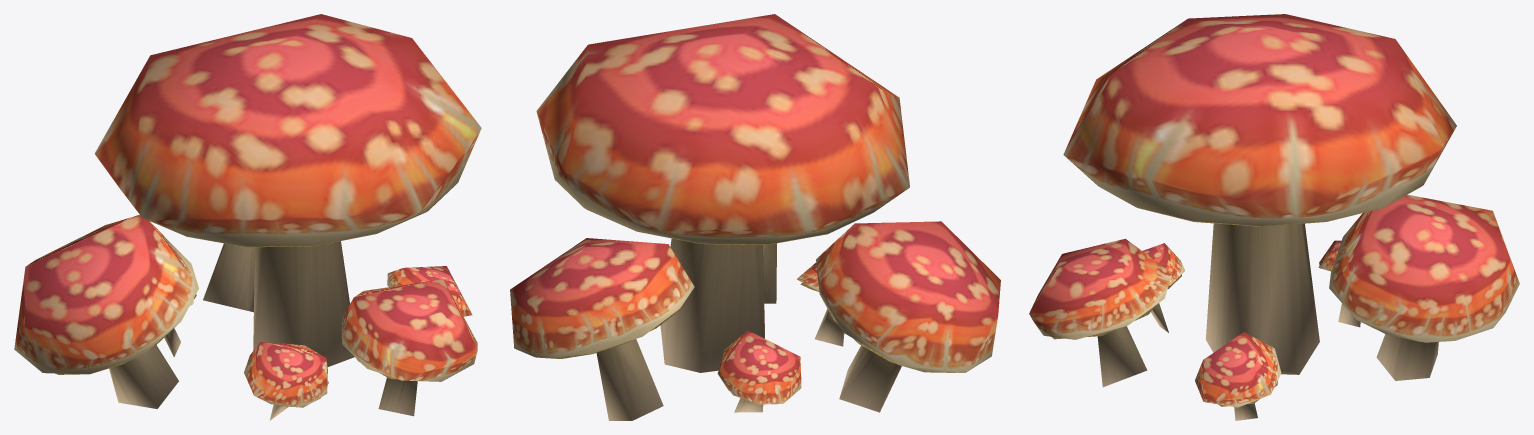
The model's file is mushroom_01.fbx.
3 renders of one model, left to right at view 1: azimuth 30°, elevation 25°; view 2: azimuth 150°, elevation 25°; view 3: azimuth 270°, elevation 25°, orthographic.
Parts seen in each view (by area): view 1: Circle.610; view 2: Circle.610; view 3: Circle.610.
Part boxes in pixels (x1,y1,x2,y2): Circle.610: (14, 14, 481, 420); Circle.610: (510, 14, 1000, 420); Circle.610: (1029, 14, 1519, 420).
Size of the model in its own units: 63.35 by 45.13 by 60.77.
